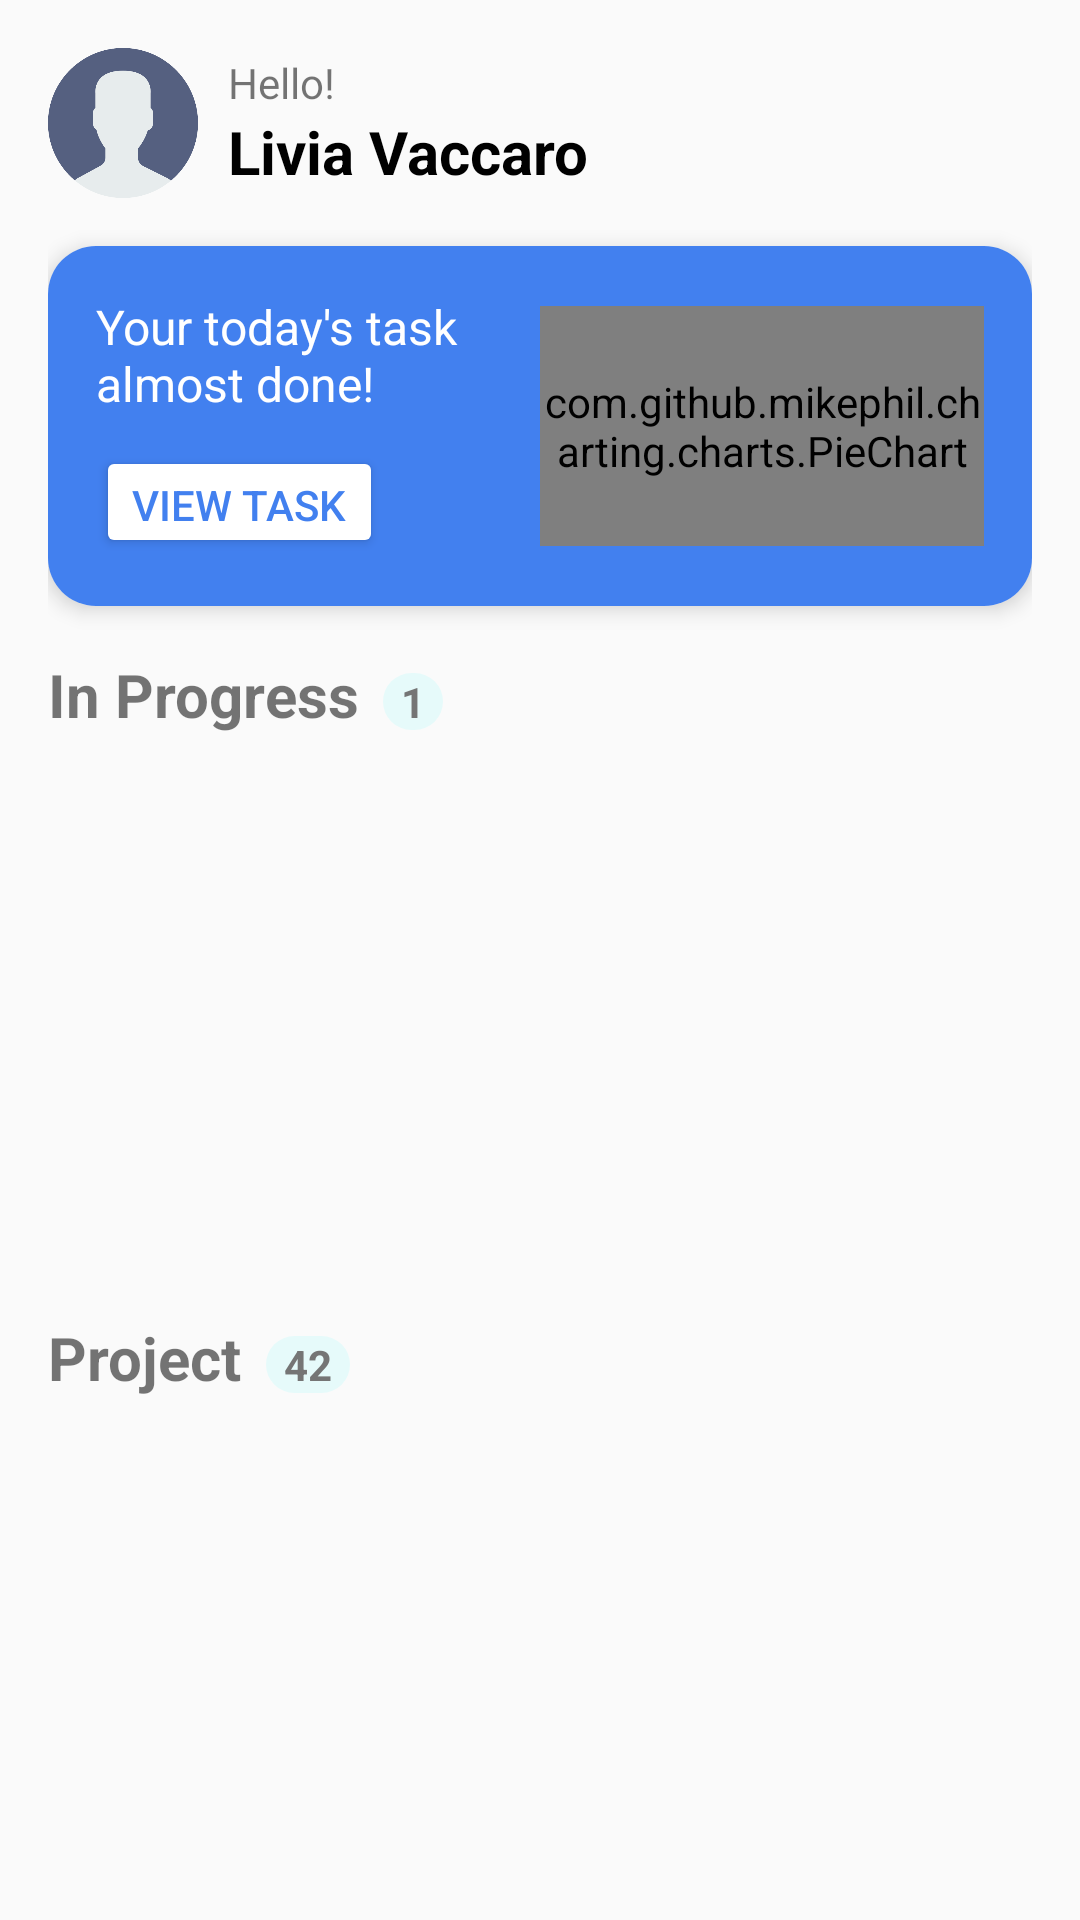

Screen size 1080*1920. Icon name, then its center in pixels as (x=x, y=y):
defaulter user: (x=123, y=114)
